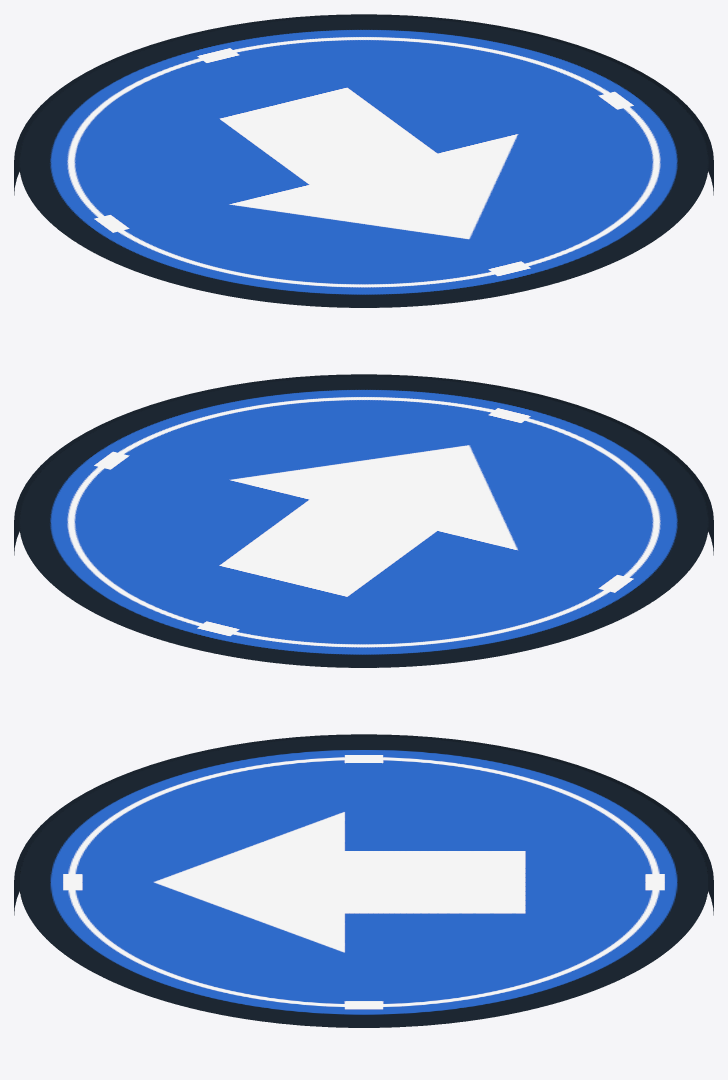
3 views of the same model, one above another, from view 1: azimuth 30°, elevation 25°; view 2: azimuth 150°, elevation 25°; view 3: azimuth 270°, elevation 25° (orthographic).
Size of the model in its own units: 2.5 by 0.14 by 2.5.
2 materials, 2 textured.
